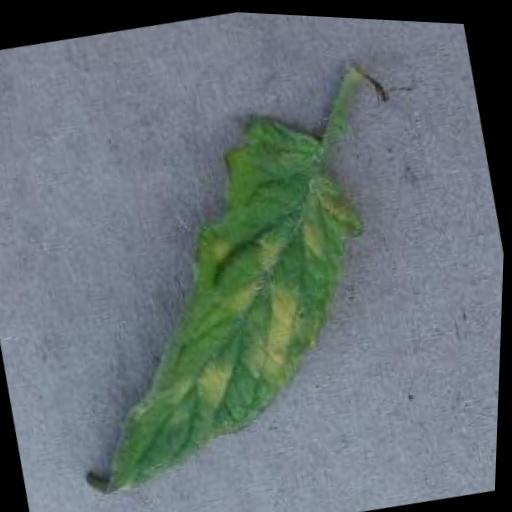Leaf Mold: (19, 90, 413, 509)
